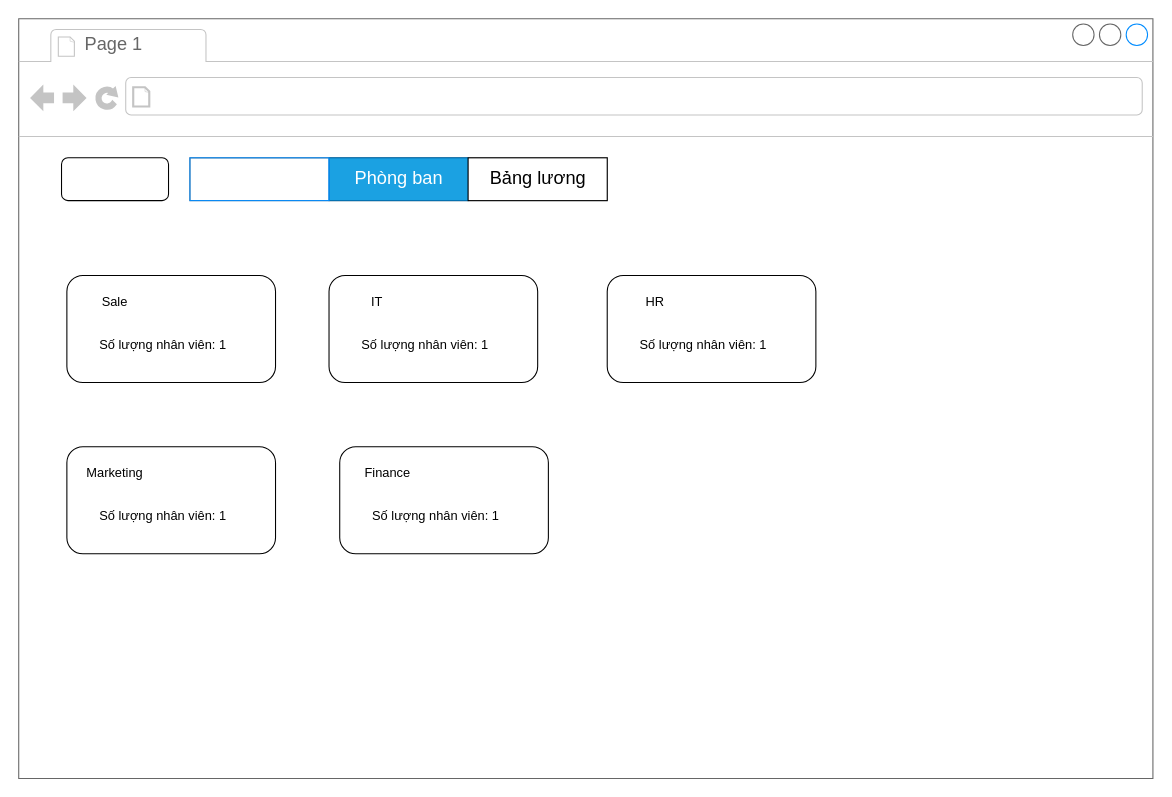
Image size: 1172x797. Some labels were removed from this diagram. Here are the shapes that lost their labels. From the top down, the box of each, then its label:
(157, 82, 425, 111): https://www.draw.io
(60, 157, 169, 201): Logo
